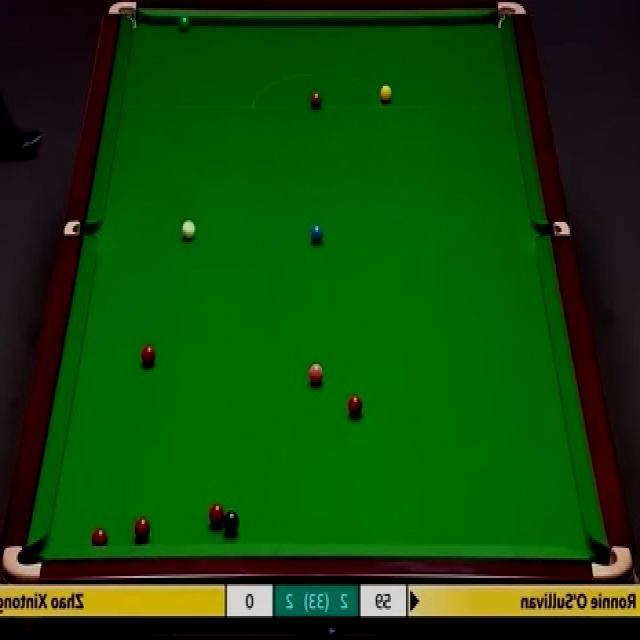pocket: (2, 543, 45, 583), (591, 543, 634, 580), (106, 0, 140, 31), (495, 2, 528, 29), (63, 218, 100, 237), (537, 218, 571, 236)
